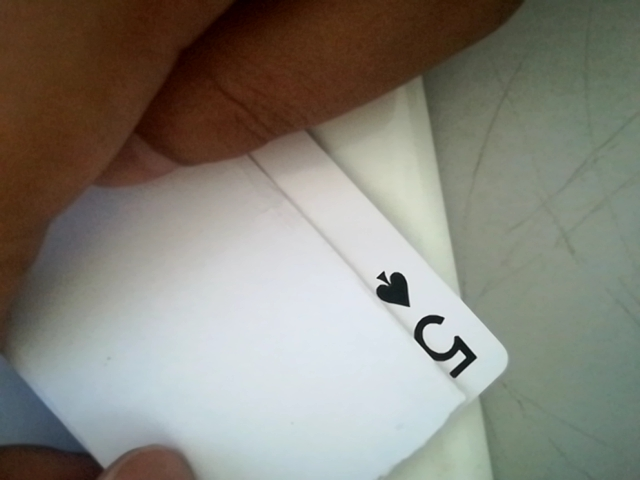ht 5: (366, 266, 498, 385)
